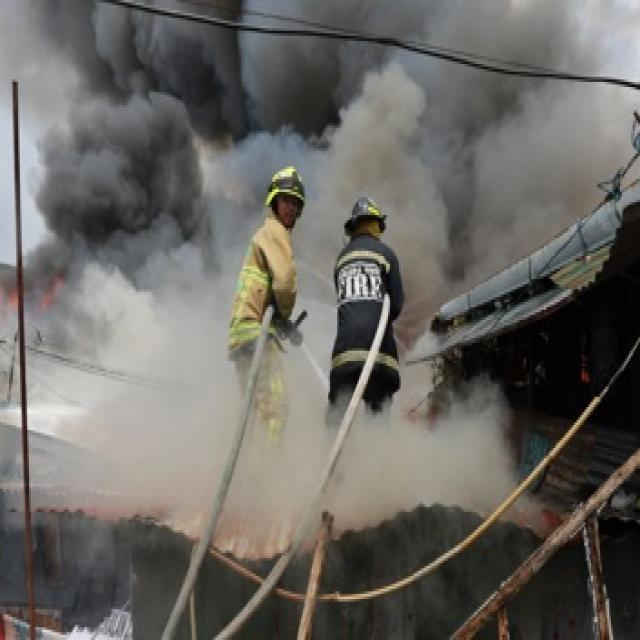Smoke: (50, 0, 639, 159), (42, 176, 236, 388), (65, 388, 232, 546), (376, 420, 514, 512)
